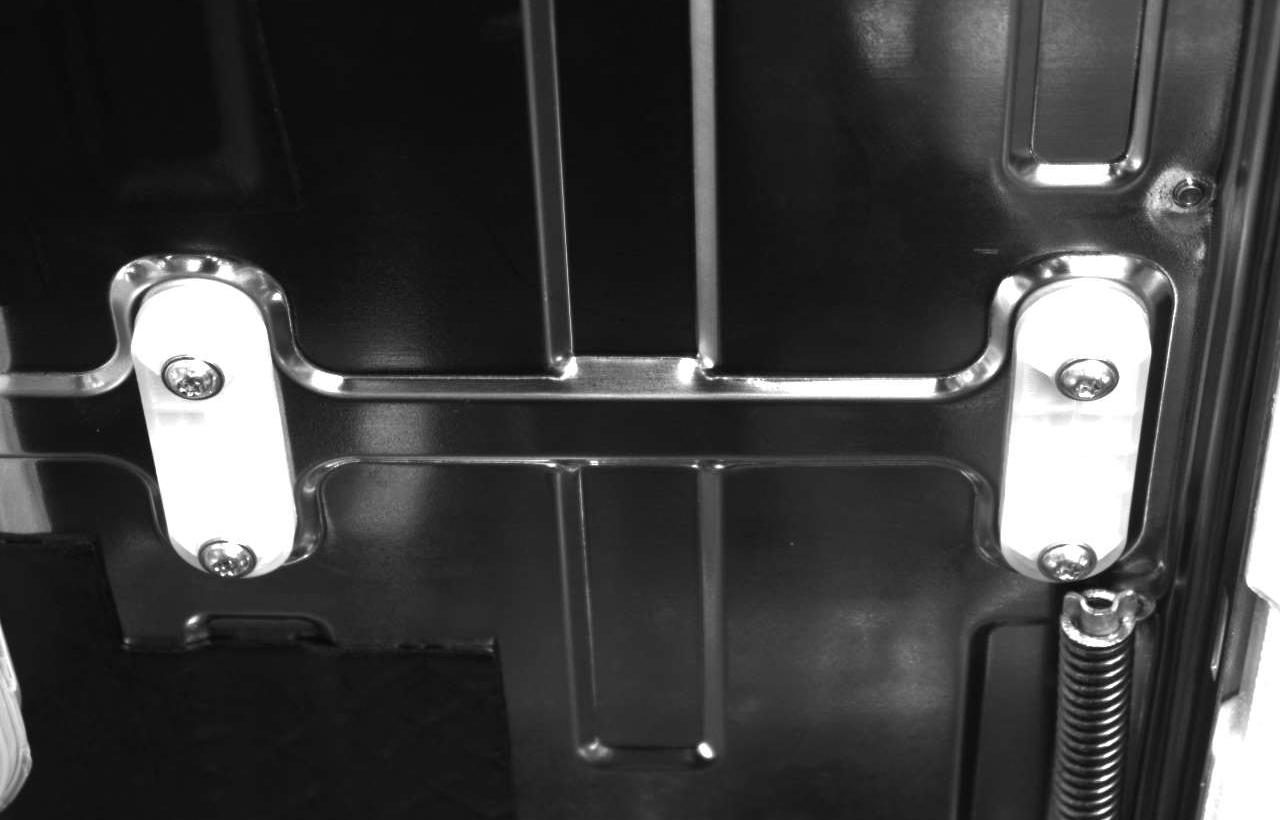vida-ok: (146, 336, 232, 413), (1036, 344, 1124, 417), (192, 522, 269, 587), (1023, 535, 1099, 593)
